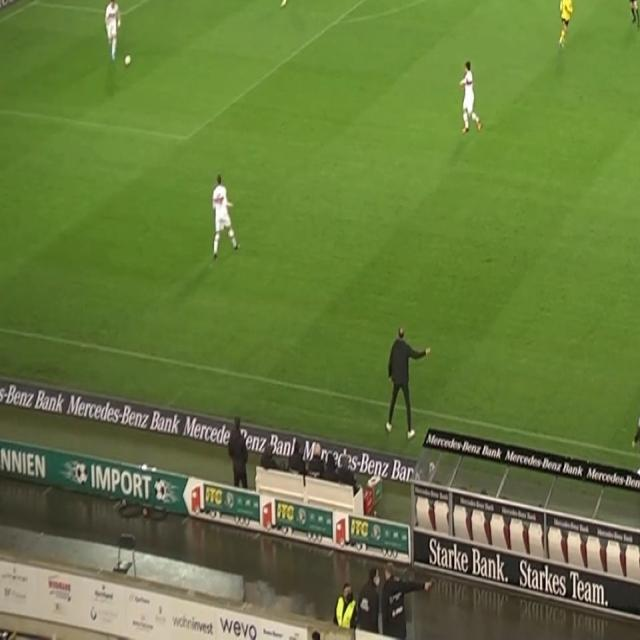ball: (124, 52, 132, 67)
